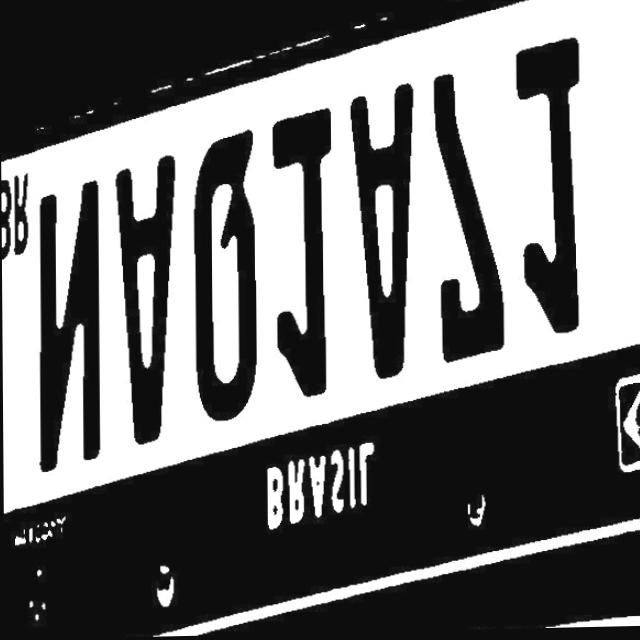1: (518, 20, 590, 349), (272, 99, 337, 405)
7: (434, 48, 508, 368)
a: (352, 62, 425, 382), (112, 147, 186, 450)
n: (30, 176, 108, 476)
q: (195, 101, 264, 429)
